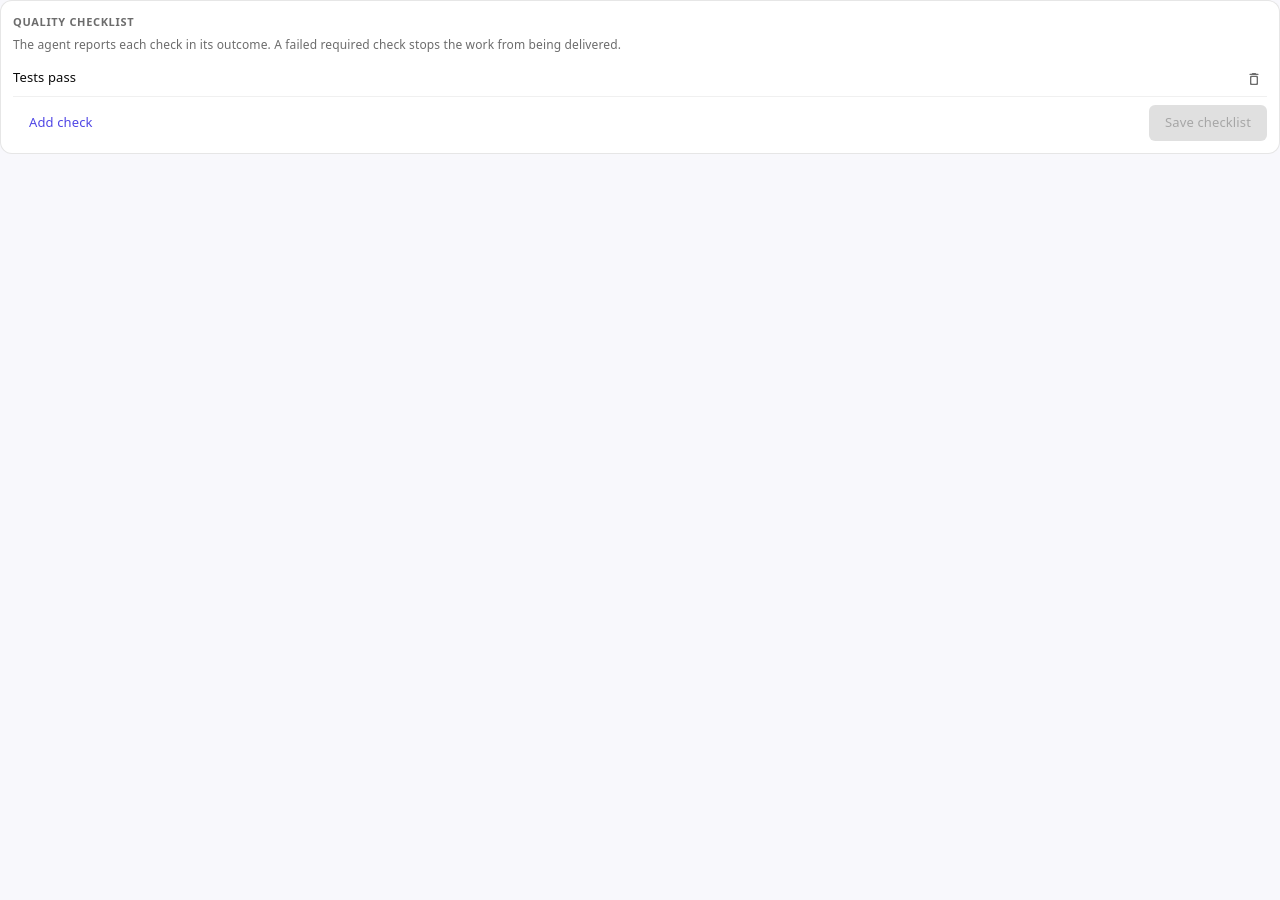
Scenario: QualityChecklistCard › Cancel in the confirm dialog keeps the check
Click the button named "Remove checklist item: Tests pass".
click(1254, 79)  # box [1241,66,1267,92]
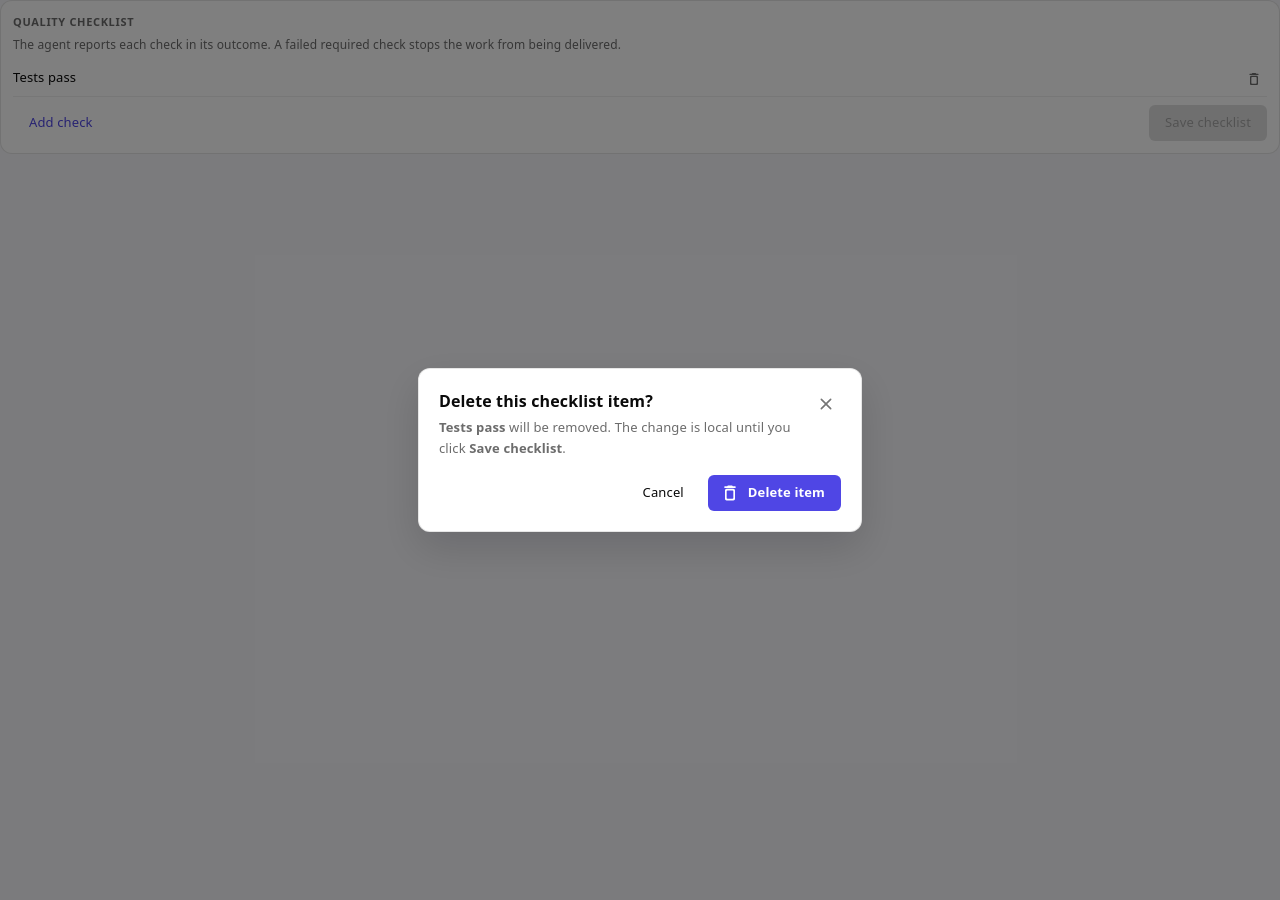
Click the button "Cancel".
click(663, 493)  # box [627,475,700,511]
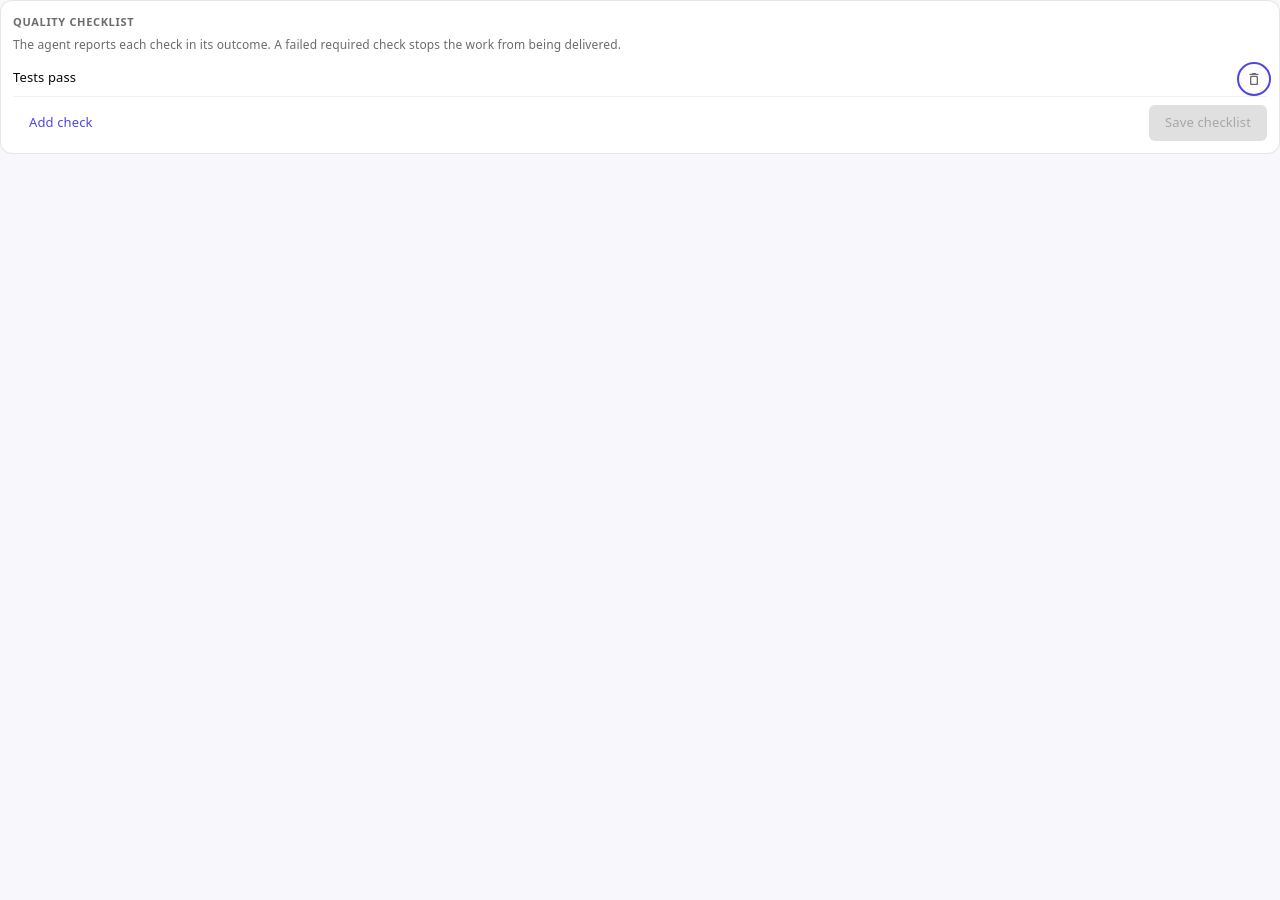
Expected: the text "Delete this checklist item" is gone
